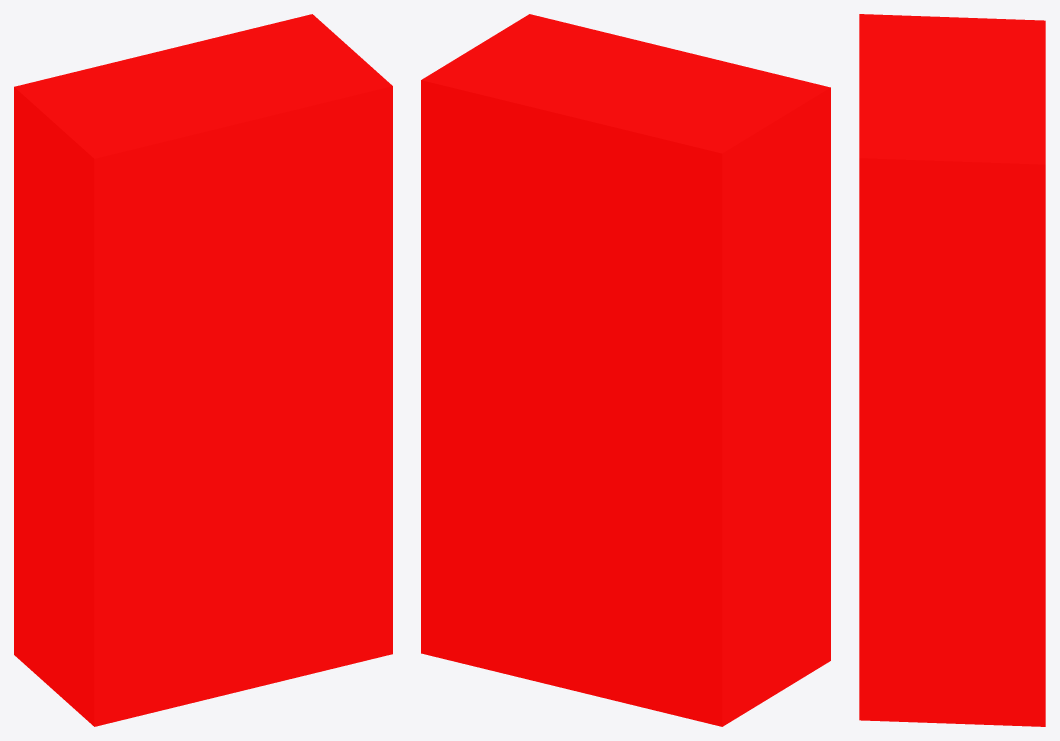
File: Items.fbx_Lighter.fbx
3 views of the same model, side by side, from view 1: azimuth 30°, elevation 25°; view 2: azimuth 150°, elevation 25°; view 3: azimuth 270°, elevation 25° (orthographic).
Parts seen in each view (by area): view 1: Interactable.001; view 2: Interactable.001; view 3: Interactable.001.
Part boxes in pixels (<box>): Interactable.001: <box>14,14,392,726</box>; Interactable.001: <box>421,14,830,726</box>; Interactable.001: <box>859,14,1045,726</box>.
Size of the model in its own units: 11.5 by 20 by 6.
